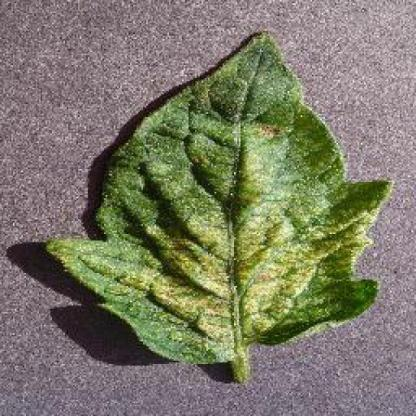Tomato_Spider_Mites: (48, 33, 392, 364)
